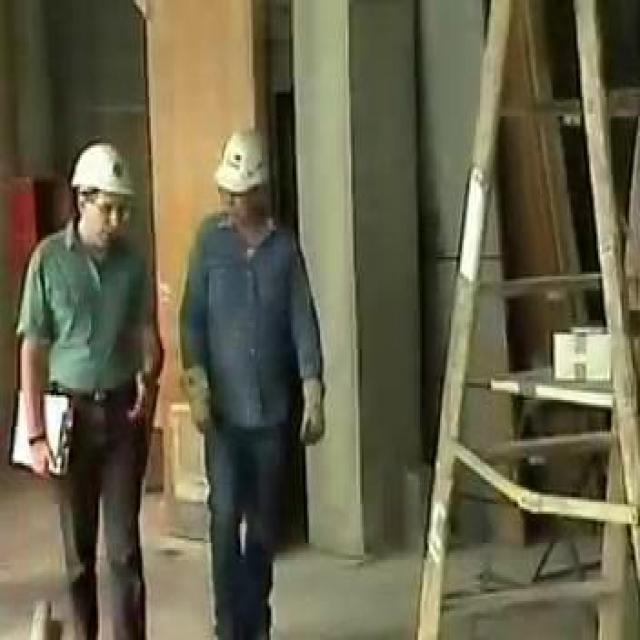Safety-Helmet: (56, 128, 146, 216), (204, 116, 282, 208)
